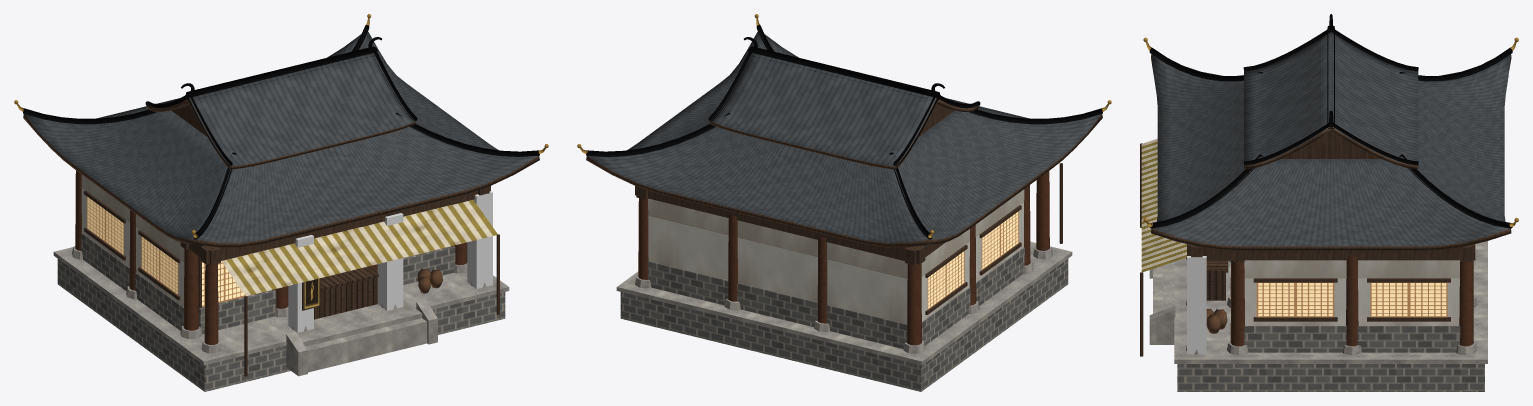
File: shophouse_c.glb
3 renders of one model, left to right at view 1: azimuth 30°, elevation 25°; view 2: azimuth 150°, elevation 25°; view 3: azimuth 270°, elevation 25°, orthographic. The views are drawn at different scales.
Visible parts, largest first — view 1: Shop3LowerRoof, Shop3Gable, Awning, Shop3PodiumCap, Shop3PodiumBase, Shop3Dado, Shop3Stairsfront, Shop3Columns, Shop3Lattice, Shop3Walls, Shop3Beams, Shop3GableRidge (+10 smaller); view 2: Shop3LowerRoof, Shop3Walls, Shop3Gable, Shop3PodiumBase, Shop3Dado, Shop3PodiumCap, Shop3Columns, Shop3Beams, Shop3GableRidge, Shop3Lattice, Shop3LowerRoofRidges, Shop3ColumnBases (+1 smaller); view 3: Shop3LowerRoof, Shop3Gable, Shop3PodiumBase, Shop3PodiumCap, Shop3Walls, Shop3Lattice, Shop3Dado, Shop3Columns, Shop3Beams, Shop3LowerRoofRidges, Awning, Shop3GableRidge (+9 smaller).
Part boxes in pixels (bbox=[...]): Shop3LowerRoof: bbox=[23, 31, 539, 247]; Shop3Gable: bbox=[147, 53, 415, 169]; Awning: bbox=[221, 200, 497, 296]; Shop3PodiumCap: bbox=[53, 247, 509, 365]; Shop3PodiumBase: bbox=[57, 259, 505, 391]; Shop3Dado: bbox=[81, 233, 455, 333]; Shop3Stairsfront: bbox=[300, 309, 426, 372]; Shop3Columns: bbox=[75, 170, 467, 344]; Shop3Lattice: bbox=[87, 196, 450, 306]; Shop3Walls: bbox=[81, 175, 184, 307]; Shop3Beams: bbox=[180, 186, 490, 265]; Shop3GableRidge: bbox=[145, 37, 417, 166]; Shop3LowerRoof: bbox=[586, 31, 1102, 247]; Shop3Walls: bbox=[648, 189, 1024, 324]; Shop3Gable: bbox=[710, 53, 978, 169]; Shop3PodiumBase: bbox=[620, 259, 1068, 391]; Shop3Dado: bbox=[647, 247, 1024, 348]; Shop3PodiumCap: bbox=[616, 241, 1072, 365]; Shop3Columns: bbox=[638, 171, 1049, 345]; Shop3Beams: bbox=[635, 186, 945, 265]; Shop3GableRidge: bbox=[708, 37, 980, 166]; Shop3Lattice: bbox=[927, 211, 1018, 309]; Shop3LowerRoofRidges: bbox=[586, 25, 1102, 239]; Shop3ColumnBases: bbox=[635, 246, 1052, 353]; Shop3LowerRoof: bbox=[1151, 54, 1511, 250]; Shop3Gable: bbox=[1244, 32, 1418, 169]; Shop3PodiumBase: bbox=[1177, 364, 1484, 391]; Shop3PodiumCap: bbox=[1174, 241, 1487, 363]; Shop3Walls: bbox=[1244, 260, 1459, 325]; Shop3Lattice: bbox=[1256, 282, 1447, 317]; Shop3Dado: bbox=[1244, 326, 1460, 352]; Shop3Columns: bbox=[1230, 256, 1473, 346]; Shop3Beams: bbox=[1187, 244, 1475, 261]; Shop3LowerRoofRidges: bbox=[1149, 48, 1512, 228]; Awning: bbox=[1141, 138, 1186, 272]; Shop3GableRidge: bbox=[1243, 14, 1418, 165].
Size of what is drawn, in the model's own units: 13.28 by 8.58 by 11.69.
Materials: 14 (14 with a texture image).
